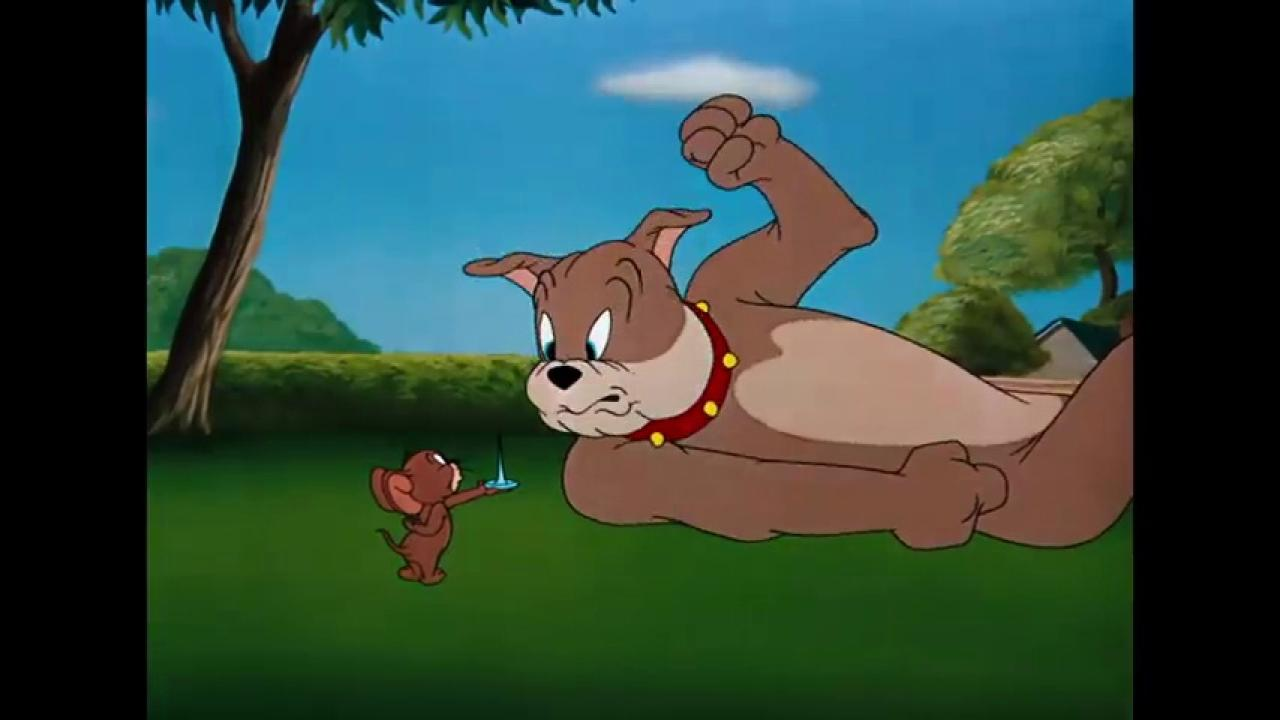Jerry: (366, 441, 501, 586)
